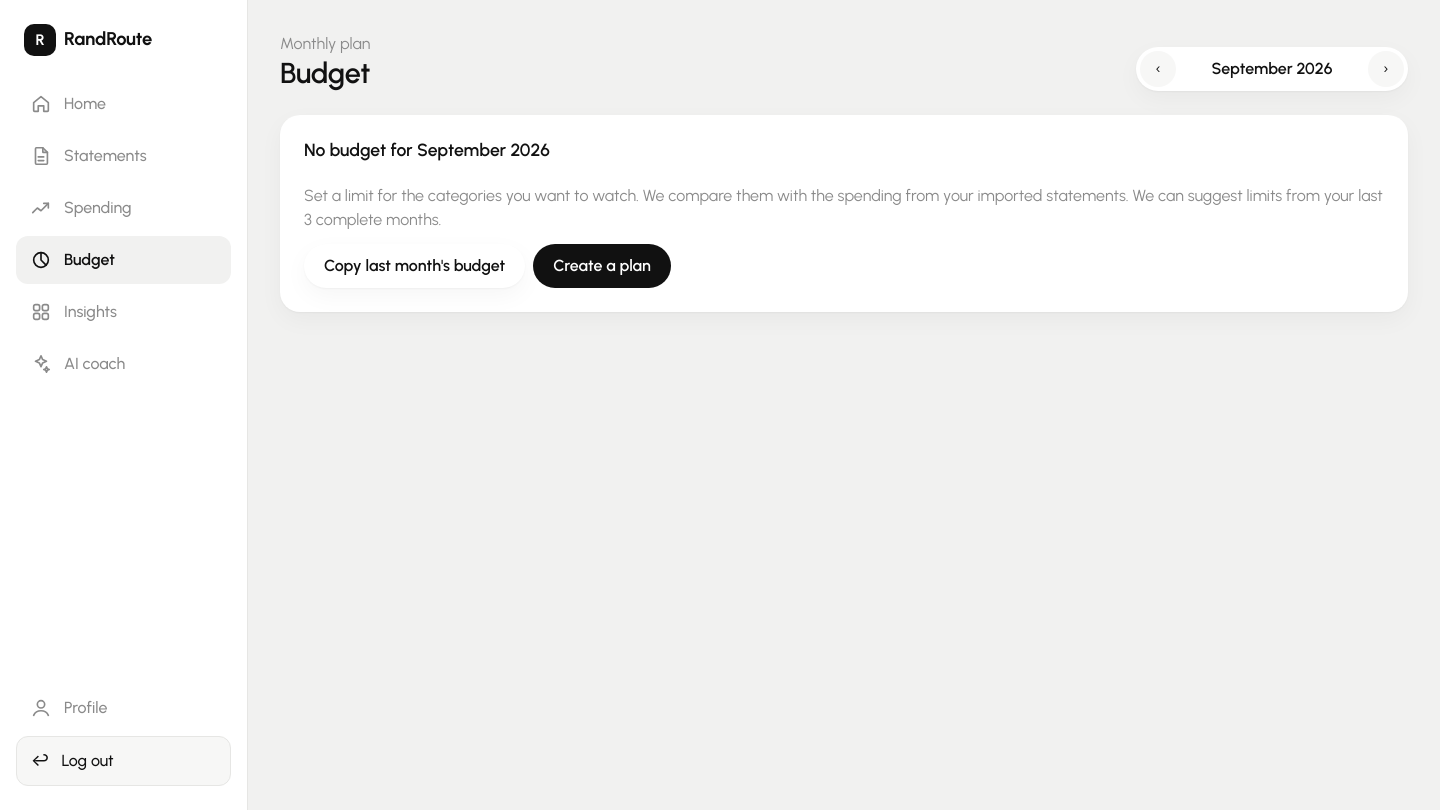
Scenario: Budget › offers to copy last month when there is no plan
What coordinates should you click on to do the following:
click the button "Copy last month's budget"
I would click on:
 (415, 266)
Its box is x1=304 y1=244 x2=525 y2=288.
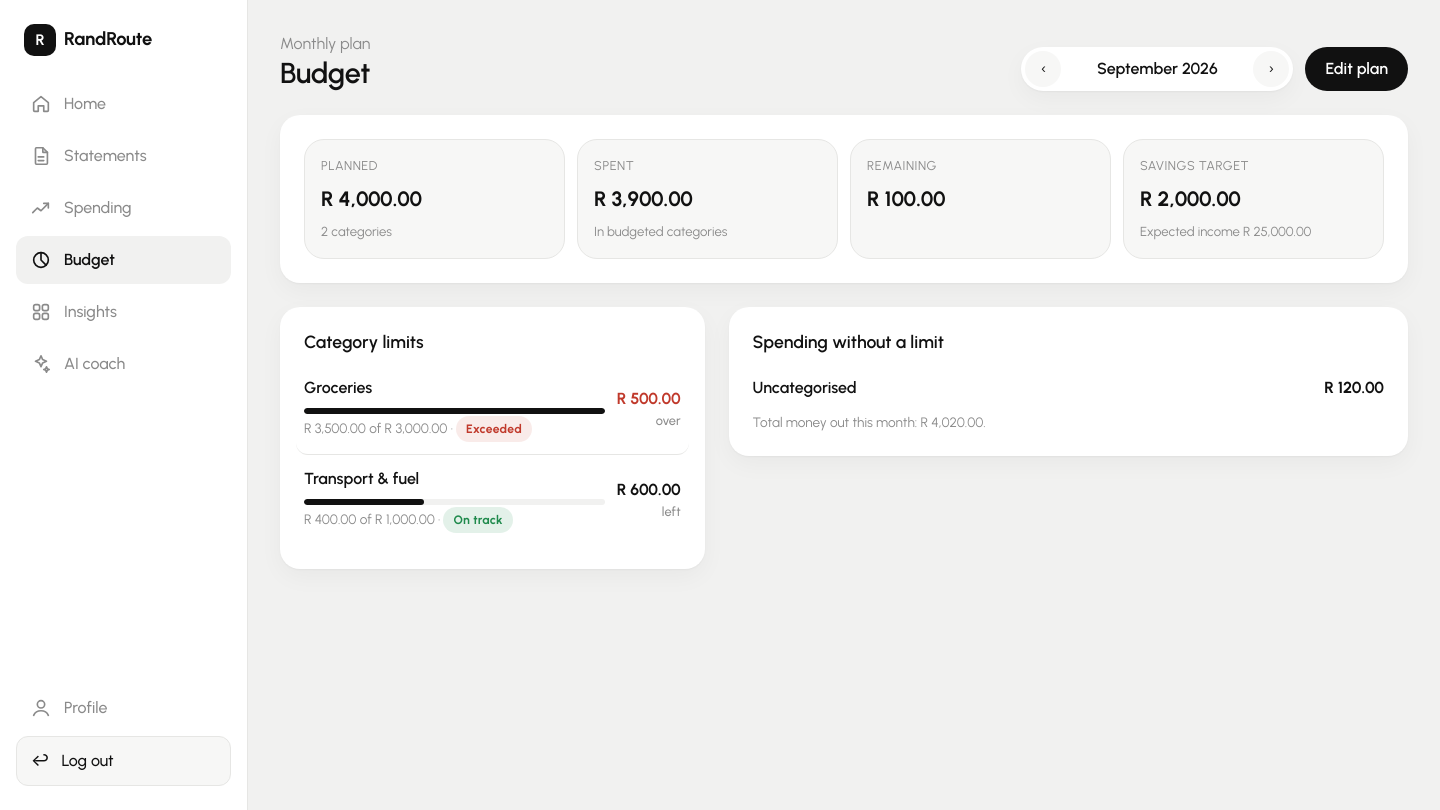
Check: the text "Exceeded" is shown, box x1=456 y1=416 x2=532 y2=442
